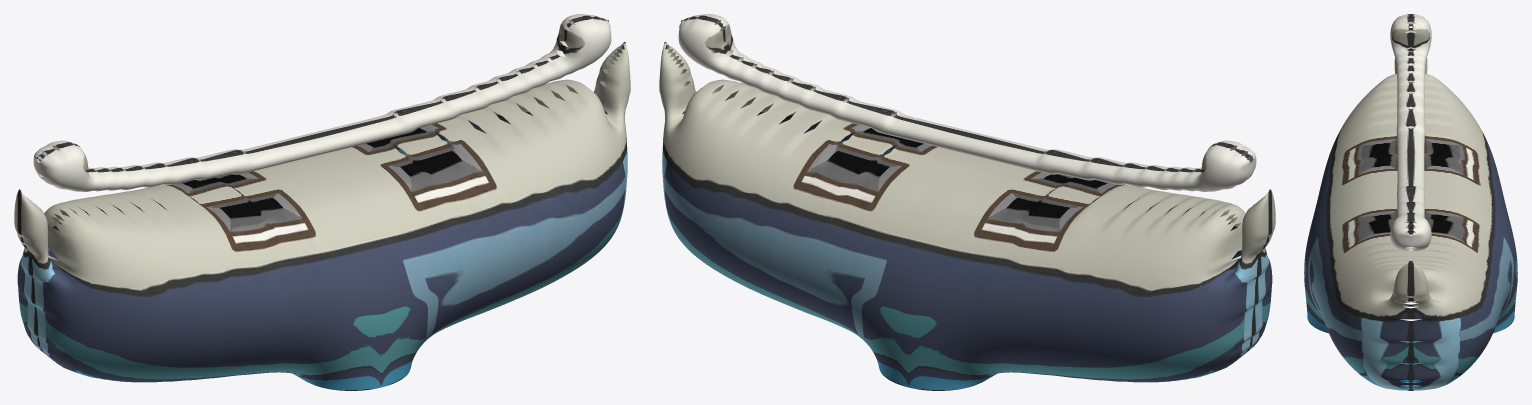
Rendered from curved_hull_wall.glb.
The picture shows the model from 3 angles, left to right: view 1: azimuth 30°, elevation 25°; view 2: azimuth 150°, elevation 25°; view 3: azimuth 270°, elevation 25°; orthographic projection. The views are drawn at different scales.
Visible parts, largest first — view 1: curved_hull_wall; view 2: curved_hull_wall; view 3: curved_hull_wall.
Boxes of the visible parts, <box> form: curved_hull_wall: <box>14,14,630,390</box>; curved_hull_wall: <box>659,14,1275,390</box>; curved_hull_wall: <box>1304,14,1517,390</box>.
Size of the model in its own units: 0.989 by 0.3989 by 0.3831.
1 material, 1 textured.
